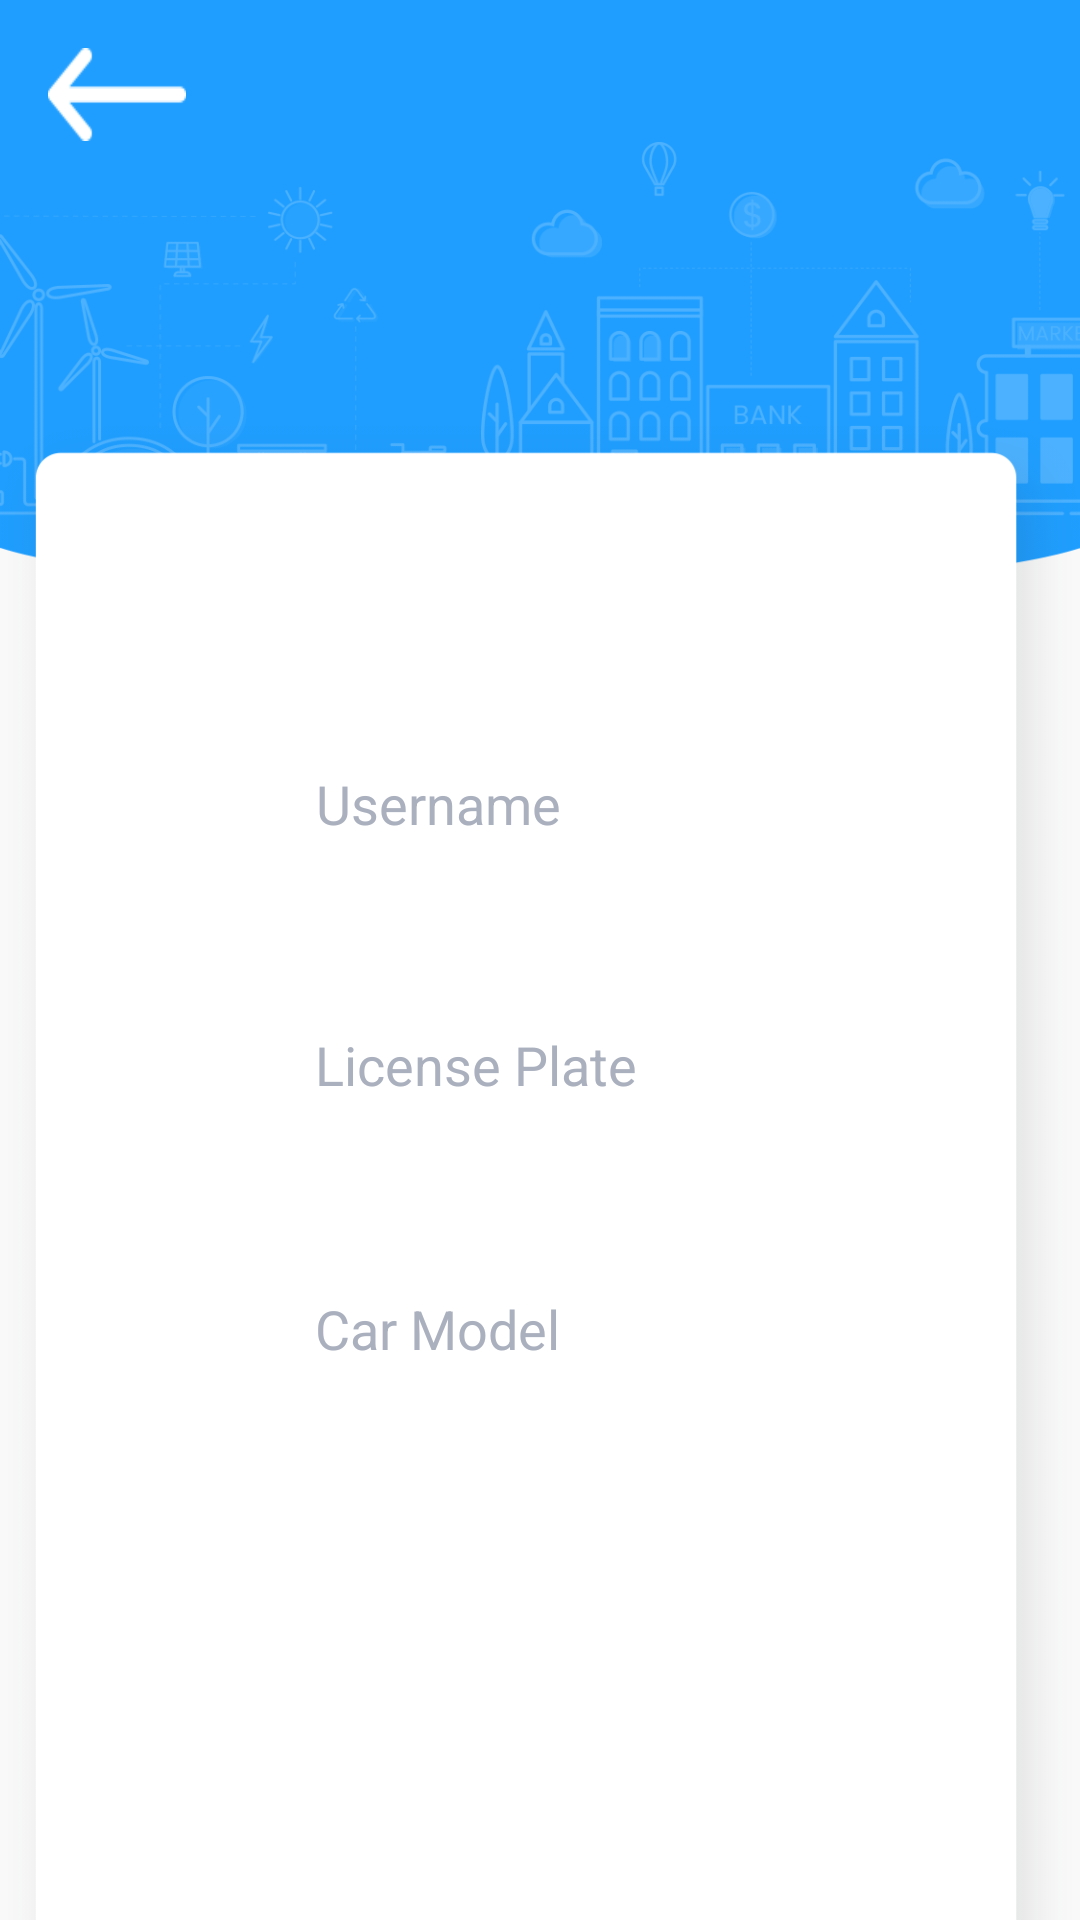

Icon bounding boxes for this 1080 × 1920 phone screenshot, format (x1, y1, x2, y2):
backarrow: (48, 48, 186, 141)
